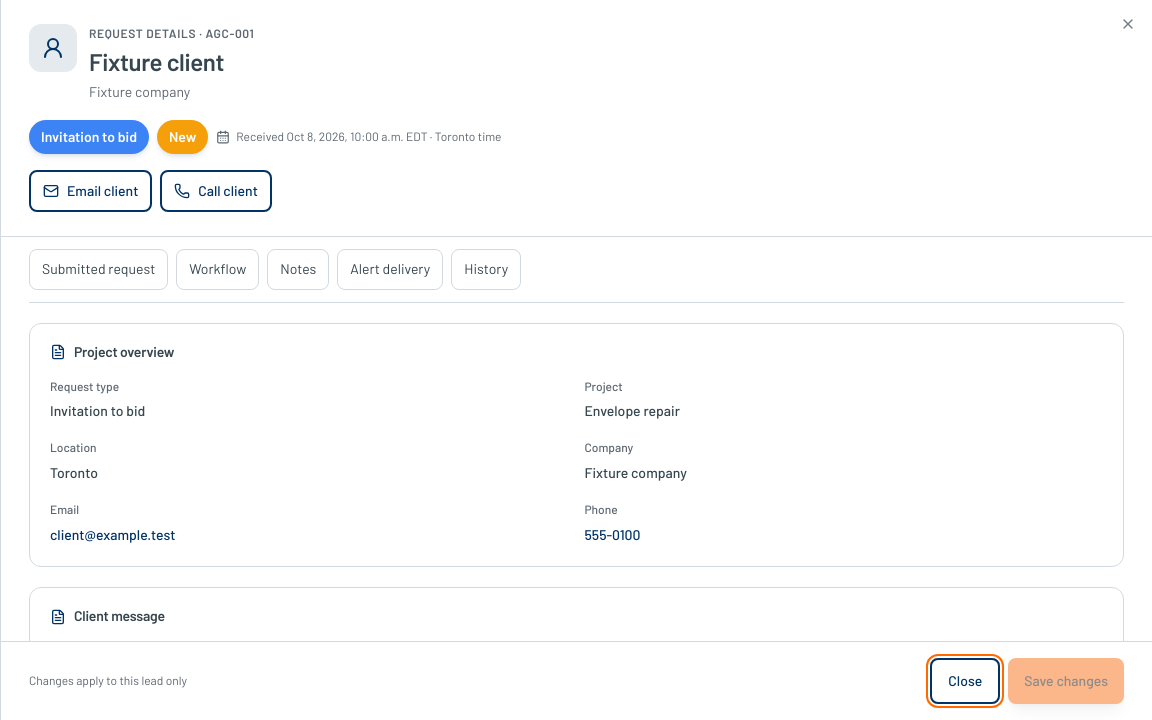
Test: modern inquiry detail workspace › shows contact actions and complete submitted information with honest empty states
Expected: the heading "Fixture client" is shown, [89,47,224,76]
Expected: the number of links "555-0100" is 1, [584,526,640,543]
Click the link "History": (486,270) [451,249,521,290]
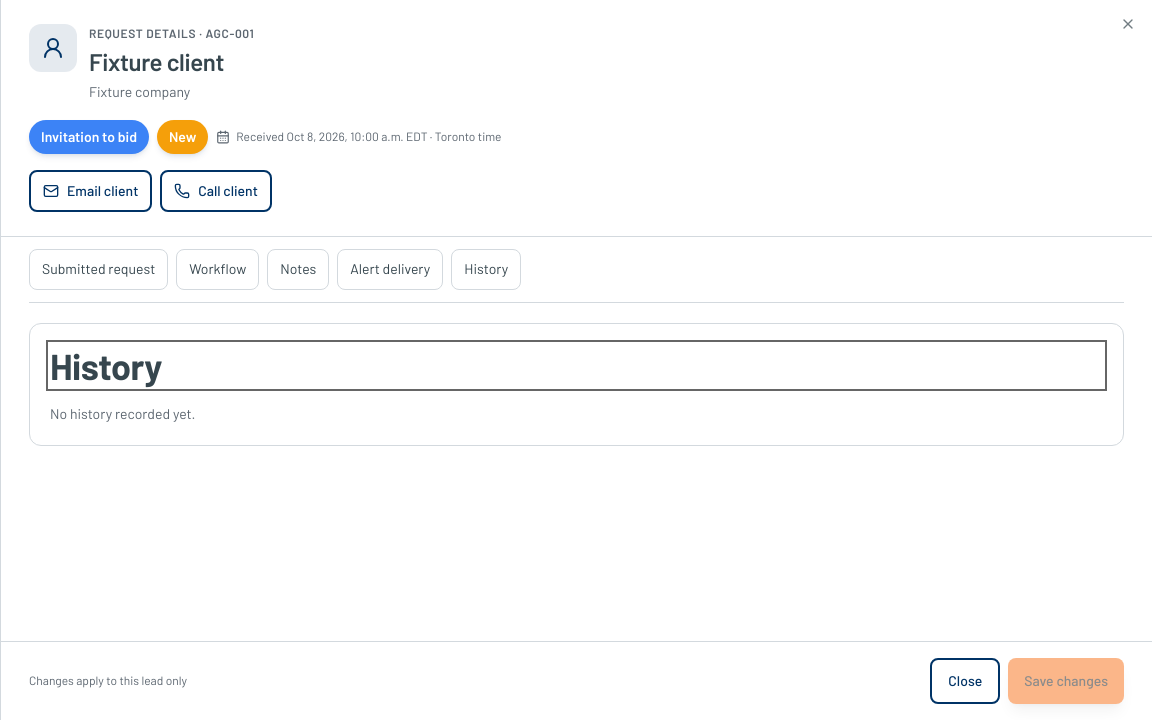
Expected: the text "No history recorded yet." is shown, [50,405,196,422]
Click the link "Alert delivery": (390,270) [337,249,443,290]
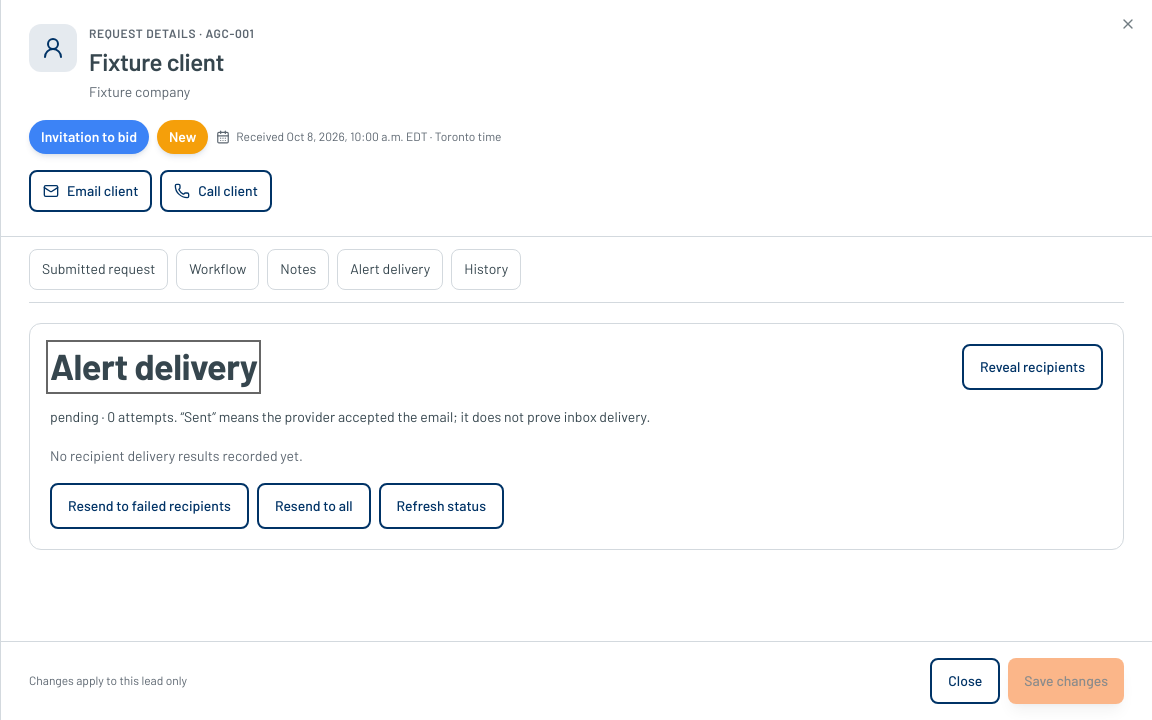
Expected: the text "No recipient delivery results recorded yet." is shown, [50,446,303,464]
